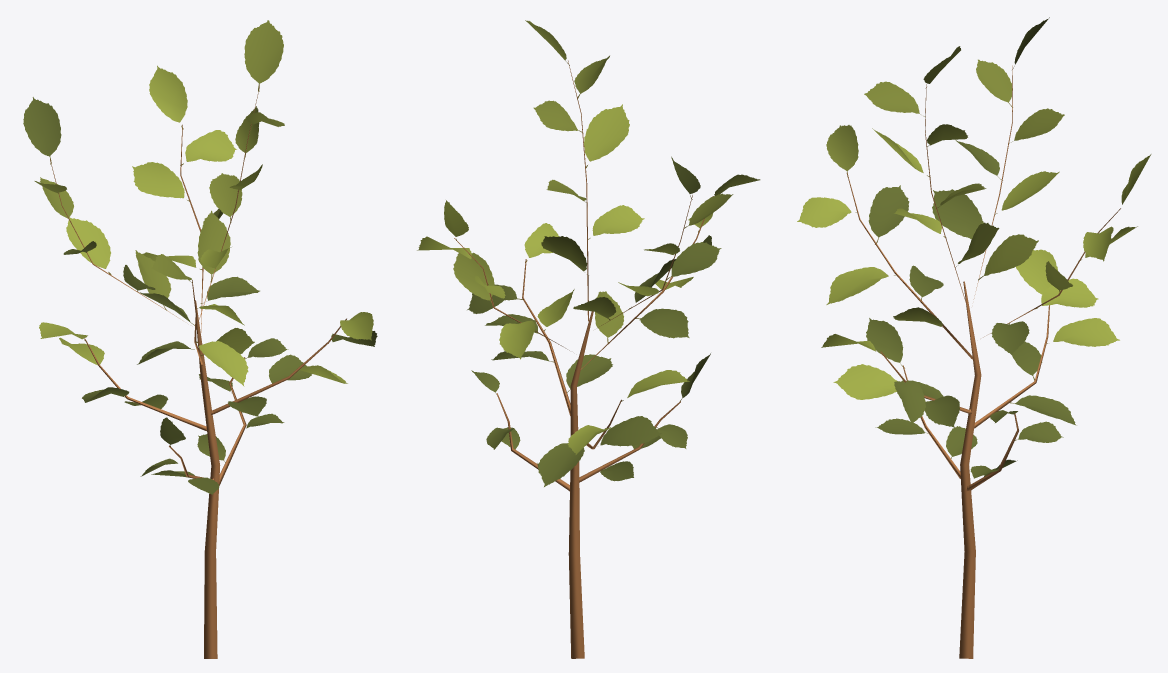
File: Young_Birch_Tree_2.fbx
The picture shows the model from 3 angles, left to right: view 1: azimuth 30°, elevation 25°; view 2: azimuth 150°, elevation 25°; view 3: azimuth 270°, elevation 25°; orthographic projection. The views are drawn at different scales.
Visible parts, largest first — view 1: Young_Birch_Tree_2; view 2: Young_Birch_Tree_2; view 3: Young_Birch_Tree_2.
Boxes of the visible parts, x1=… form: Young_Birch_Tree_2: x1=23, y1=20, x2=377, y2=658; Young_Birch_Tree_2: x1=417, y1=20, x2=760, y2=658; Young_Birch_Tree_2: x1=797, y1=17, x2=1151, y2=658.
Size of the model in its own units: 104 by 203 by 104.
2 materials, 2 textured.
